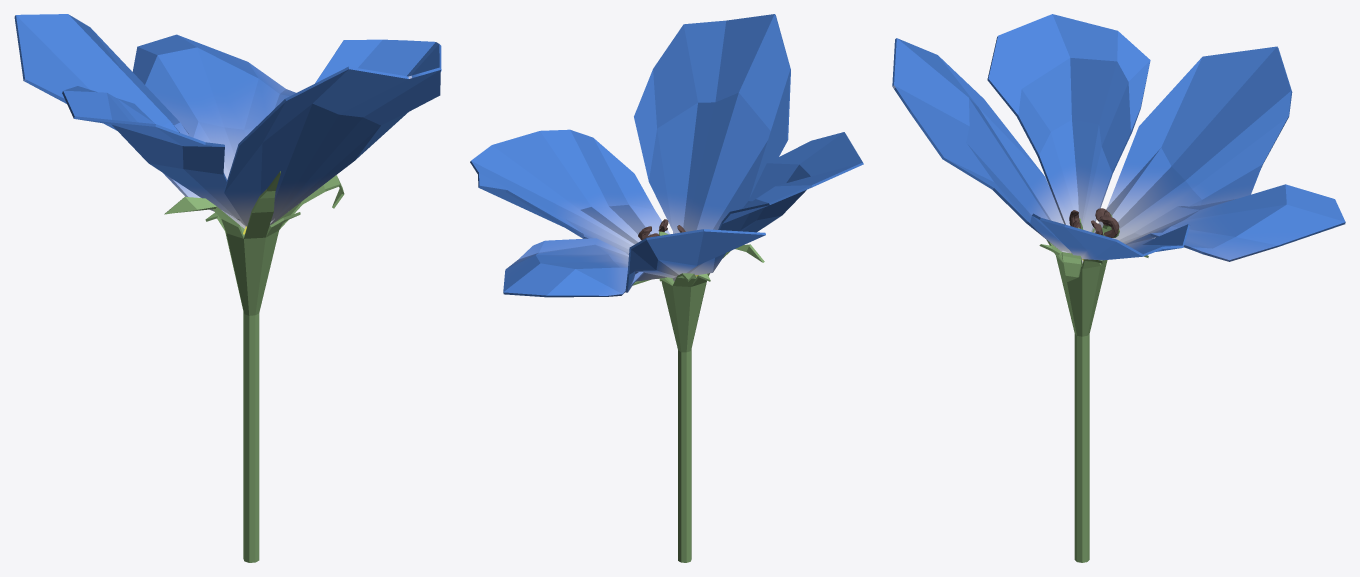
Rendered from blueFlowerJoined.fbx.
3 views of the same model, side by side, from view 1: azimuth 30°, elevation 25°; view 2: azimuth 150°, elevation 25°; view 3: azimuth 270°, elevation 25° (orthographic). The views are drawn at different scales.
Parts seen in each view (by area): view 1: Cylinder; view 2: Cylinder; view 3: Cylinder.
Boxes of the visible parts, box(x1,y1,x2,y2) form: Cylinder: box(14, 14, 441, 562); Cylinder: box(470, 14, 863, 562); Cylinder: box(892, 14, 1345, 562).
Size of the model in its own units: 175 by 230 by 182.
Materials: 4 (1 with a texture image).
